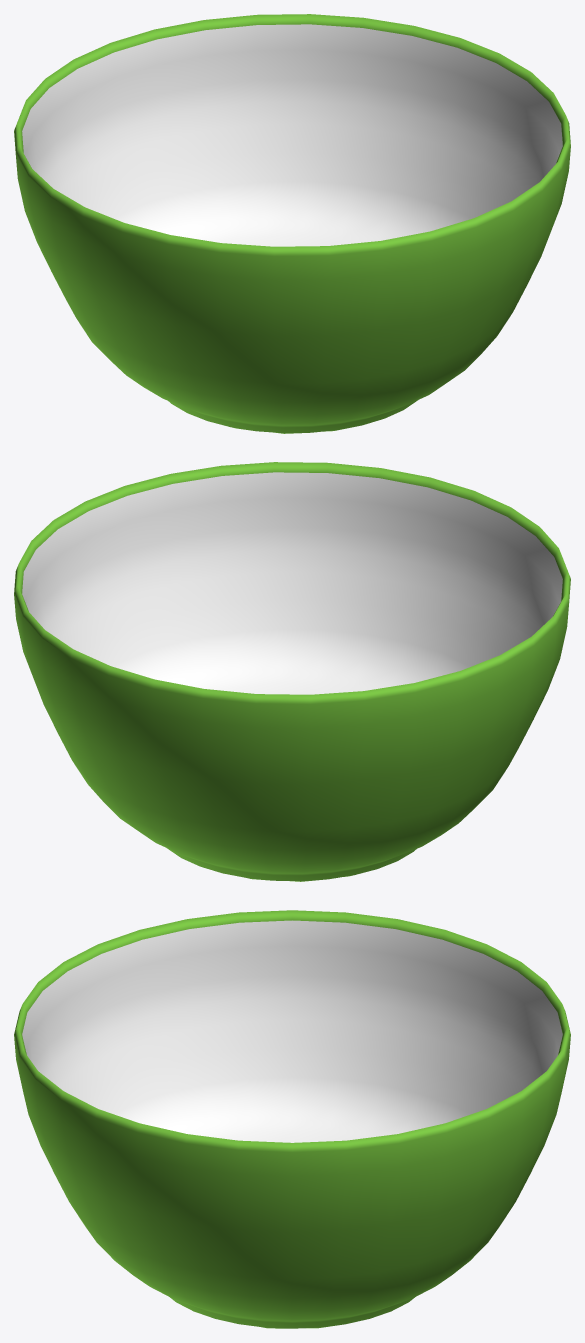
File: GreenBowl.fbx
3 renders of one model, top to bottom at view 1: azimuth 30°, elevation 25°; view 2: azimuth 150°, elevation 25°; view 3: azimuth 270°, elevation 25°, orthographic.
Visible parts, largest first — view 1: MixingBowl2; view 2: MixingBowl2; view 3: MixingBowl2.
Part boxes in pixels (x1,y1,x2,y2): MixingBowl2: (14,14,570,433); MixingBowl2: (14,462,570,881); MixingBowl2: (14,910,570,1328).
Bounding box in the file's own units: 12.15 × 6.03 × 12.15.
1 material, 1 textured.
